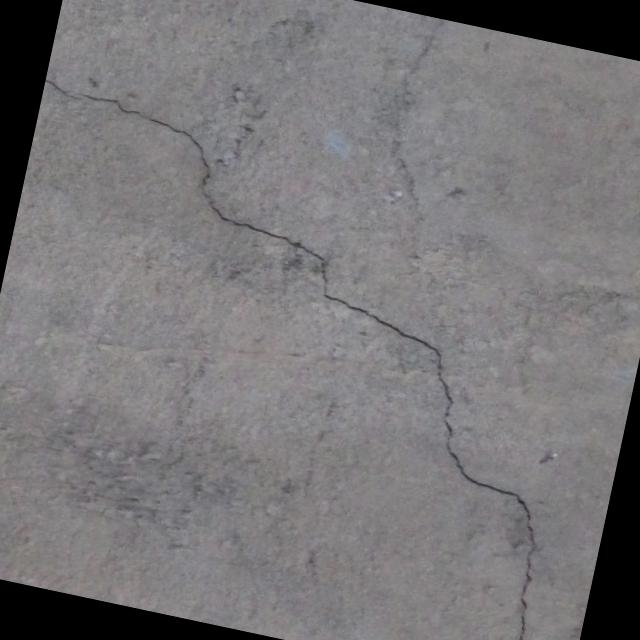crack: (7, 70, 468, 350), (363, 339, 597, 640), (382, 13, 448, 149)
